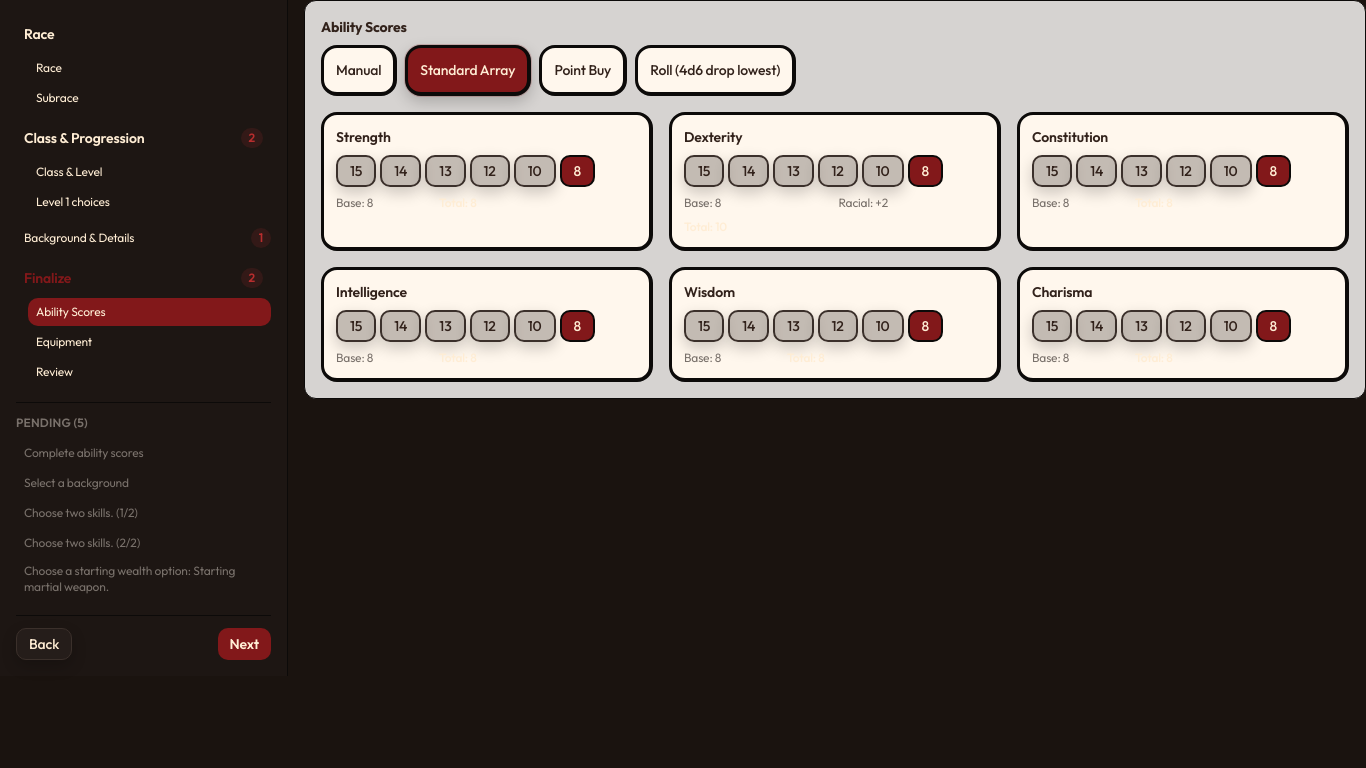
it: PlayerCharacterForm abilities step › reflects point-buy changes without leaving and returning to the step
The width and height of the screenshot is (1366, 768).
Click the button "Point Buy" at (583, 70), box 539,45 -> 627,96
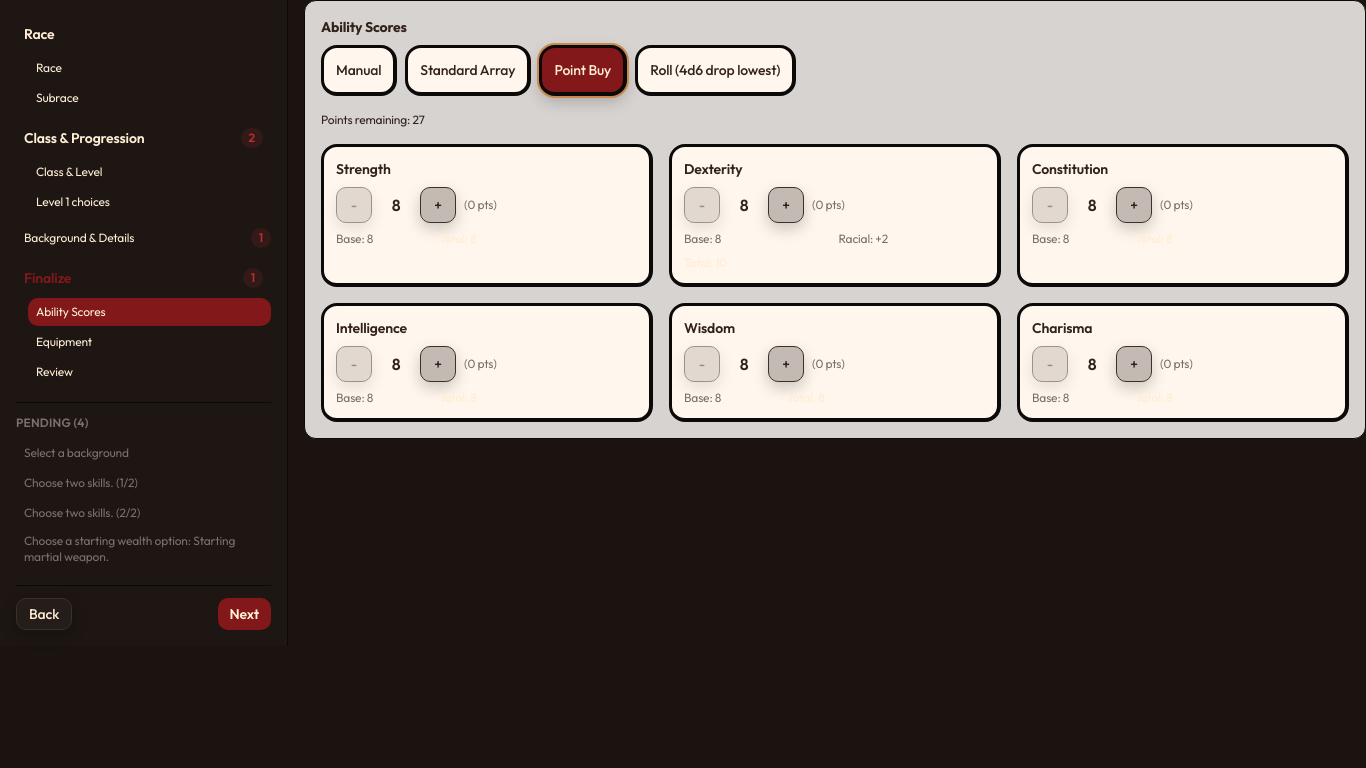
Expected: the text "Strength" is shown, 336,160 -> 391,178
Click the button "+" below "Strength" at (438, 205), box 420,187 -> 456,223
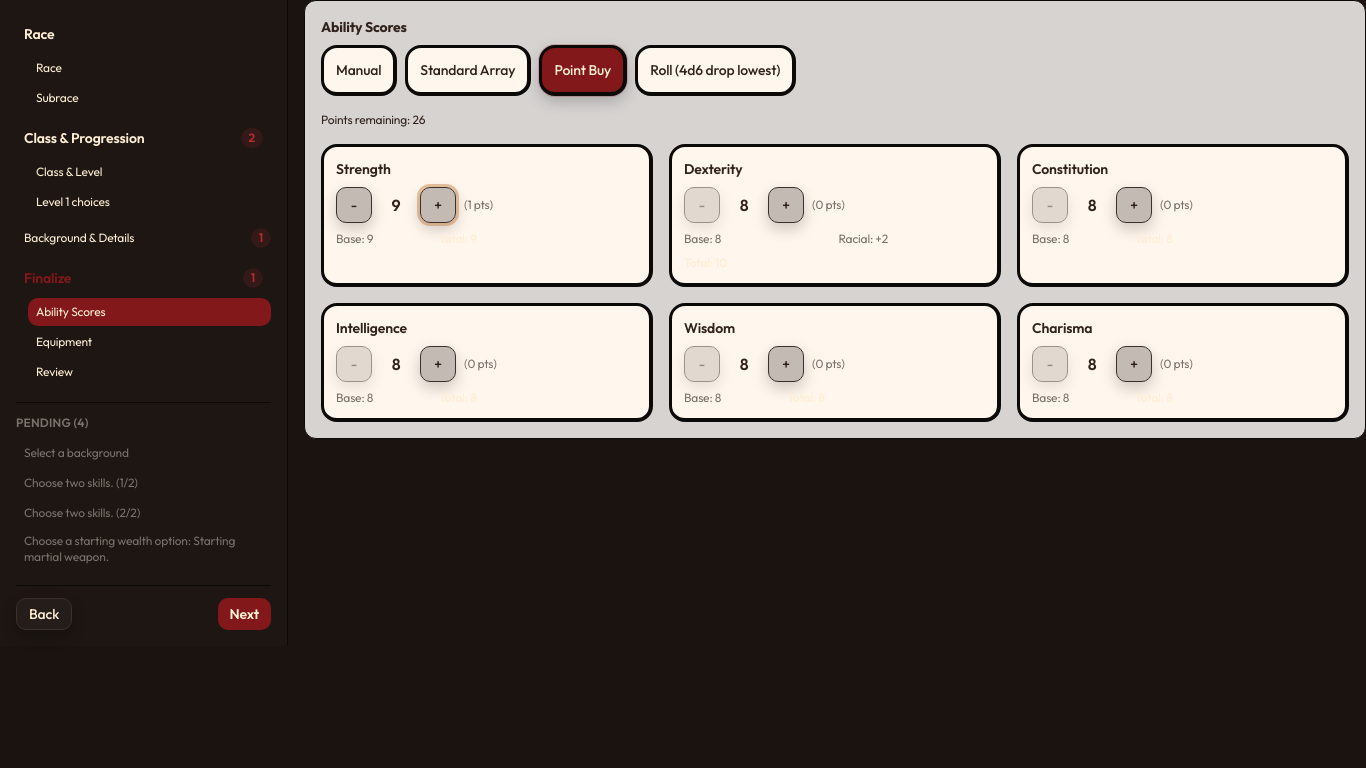
Expected: the text "Base: 9" is shown, 336,231 -> 373,246
